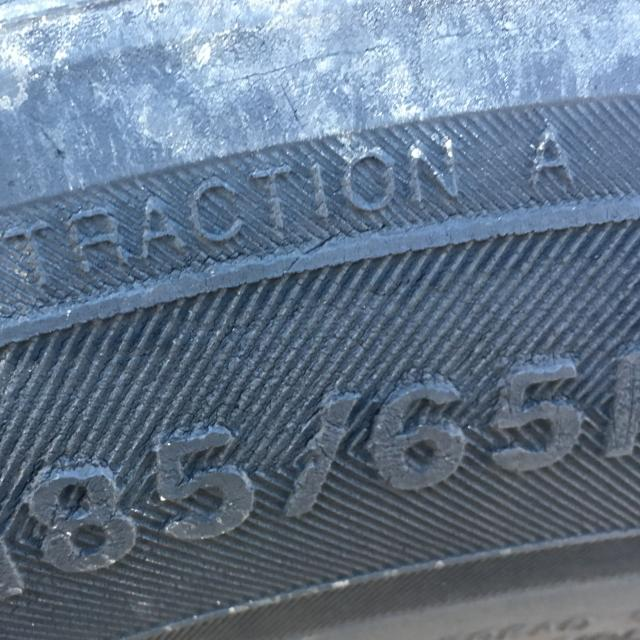Cracks: (188, 196, 478, 349)
